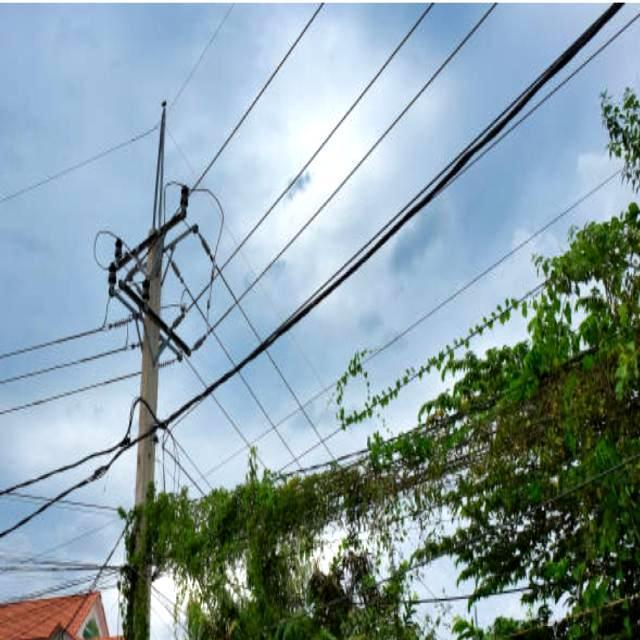critical vegetation: (107, 470, 173, 638)
